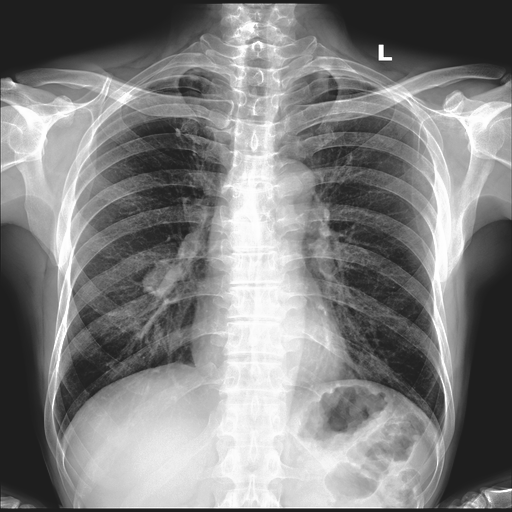Calcification: (329, 69, 391, 90)
Other lesion: (175, 127, 180, 138)
Pulmonary fibrosis: (144, 264, 178, 295), (175, 127, 180, 138)
